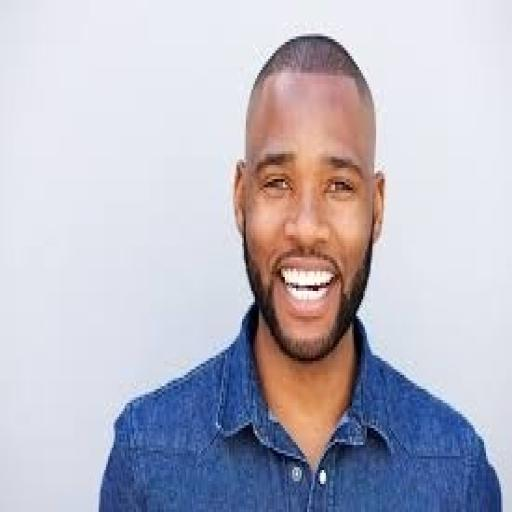laughing: (93, 26, 501, 506)
